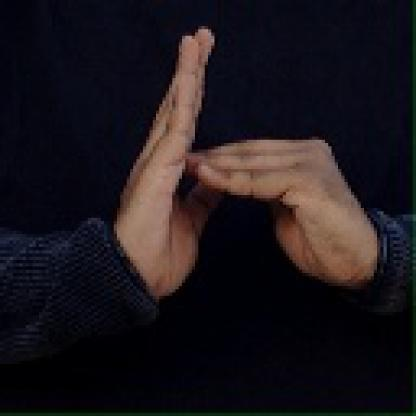Z: (117, 20, 360, 300)
